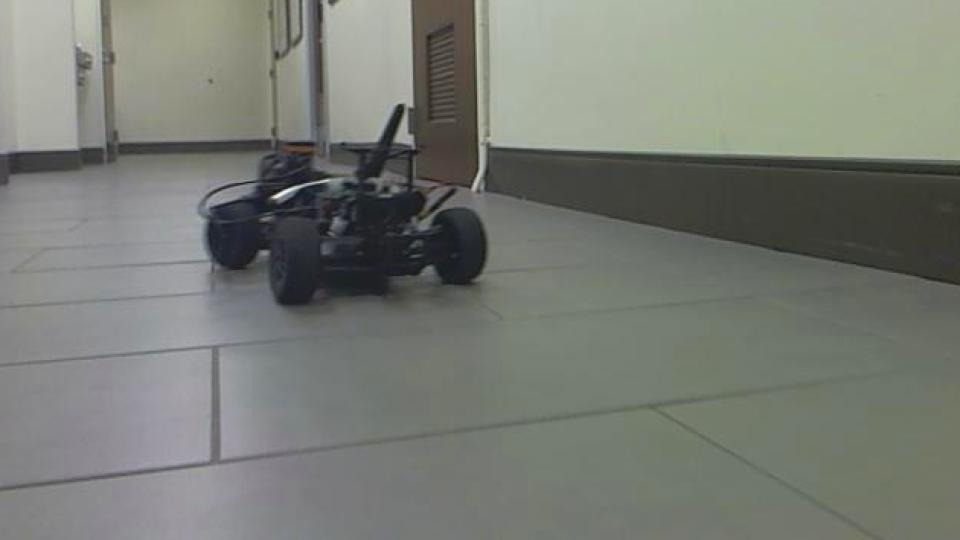car: (197, 101, 492, 308)
